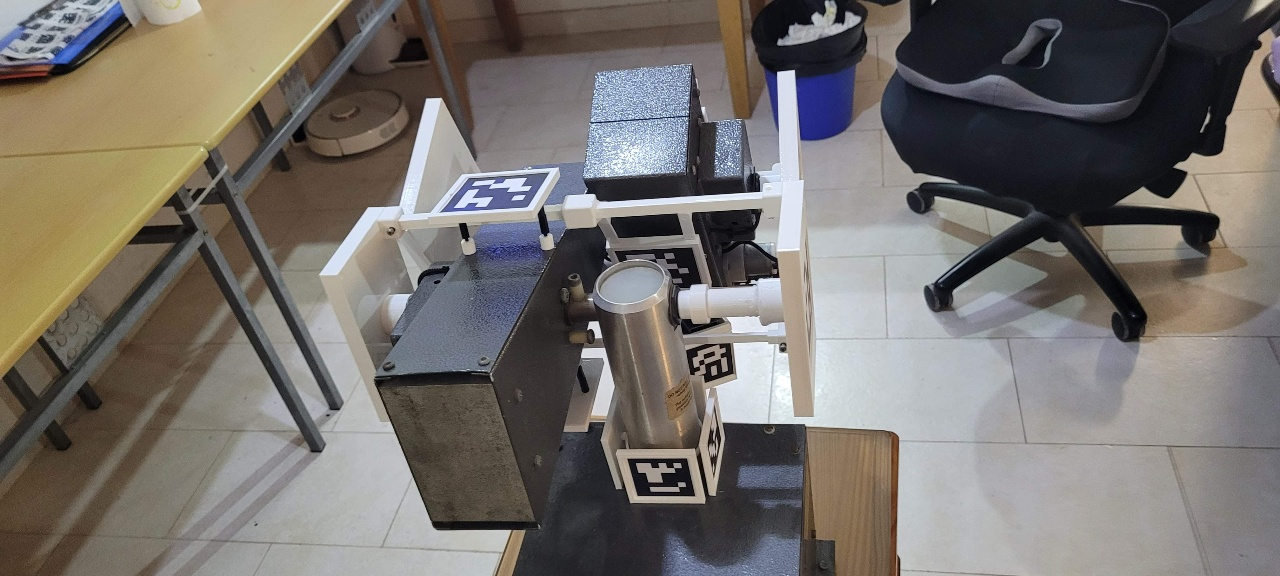Robot: (317, 62, 818, 532)
